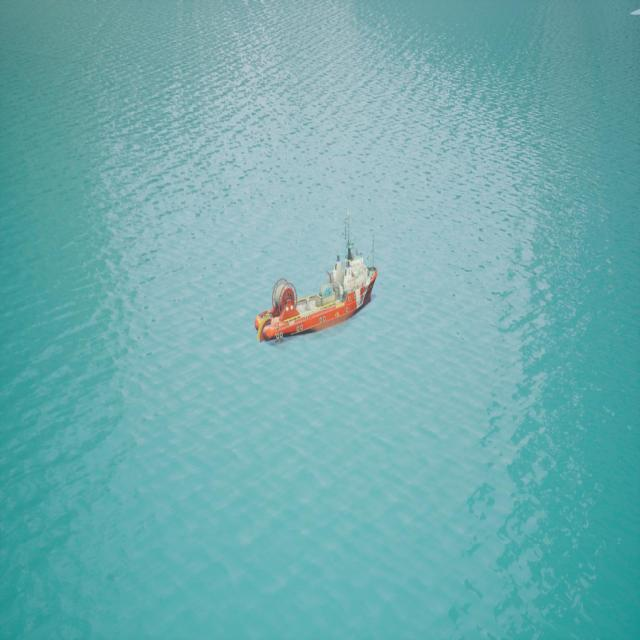tug boat: (256, 253, 378, 346)
